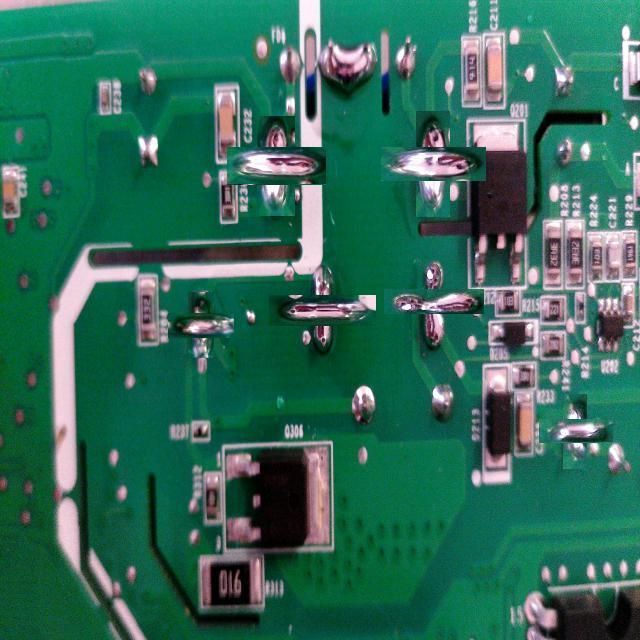Short_circuit: (398, 129, 468, 199), (288, 276, 357, 345), (242, 132, 311, 200), (403, 270, 466, 333), (316, 36, 380, 98), (551, 407, 600, 456), (178, 302, 224, 348)
